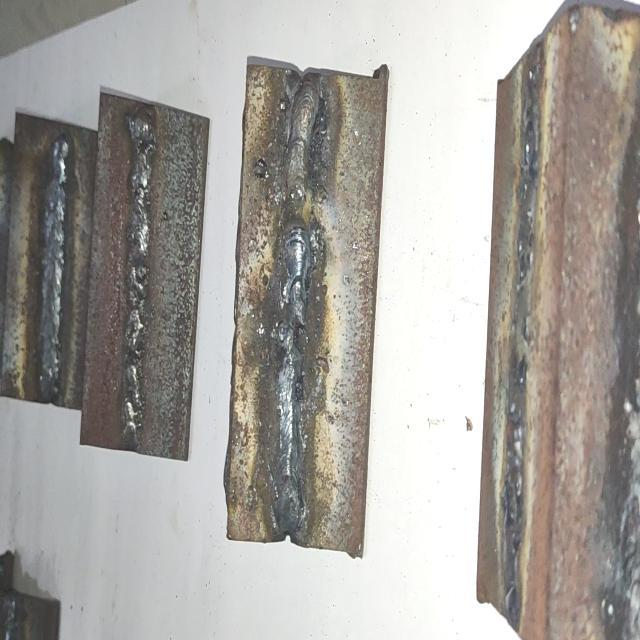Defect: (274, 154, 324, 260), (276, 284, 312, 400)
Welding Line: (280, 77, 322, 530), (122, 110, 154, 442), (37, 129, 69, 396)
Workpiece: (471, 0, 640, 640), (220, 50, 390, 568), (77, 82, 212, 465), (0, 108, 96, 414)
